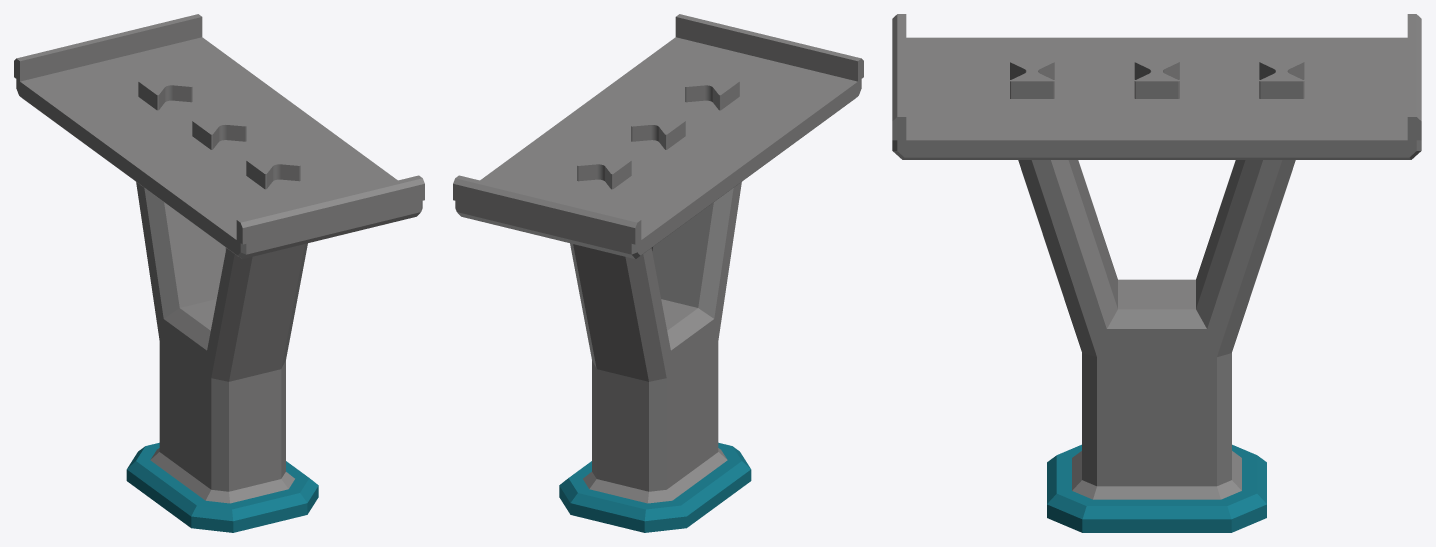
The model's file is 5x5 Water Beam 5mm.obj.
The picture shows the model from 3 angles, left to right: view 1: azimuth 30°, elevation 25°; view 2: azimuth 150°, elevation 25°; view 3: azimuth 270°, elevation 25°; orthographic projection. The views are drawn at different scales.
Parts seen in each view (by area): view 1: Körper1:1, Körper1:2, Körper1; view 2: Körper1:1, Körper1:2, Körper1; view 3: Körper1:1, Körper1:2, Körper1.
Part boxes in pixels (left/top/right/bottom): Körper1:1: left=14, top=14, right=424, bottom=259; Körper1:2: left=136, top=182, right=307, bottom=503; Körper1: left=126, top=442, right=318, bottom=532; Körper1:1: left=453, top=14, right=863, bottom=259; Körper1:2: left=570, top=182, right=741, bottom=503; Körper1: left=559, top=442, right=751, bottom=532; Körper1:1: left=892, top=14, right=1421, bottom=159; Körper1:2: left=1018, top=160, right=1295, bottom=499; Körper1: left=1047, top=444, right=1266, bottom=532.
Bounding box in the file's own units: 48.77 × 95 × 106.
